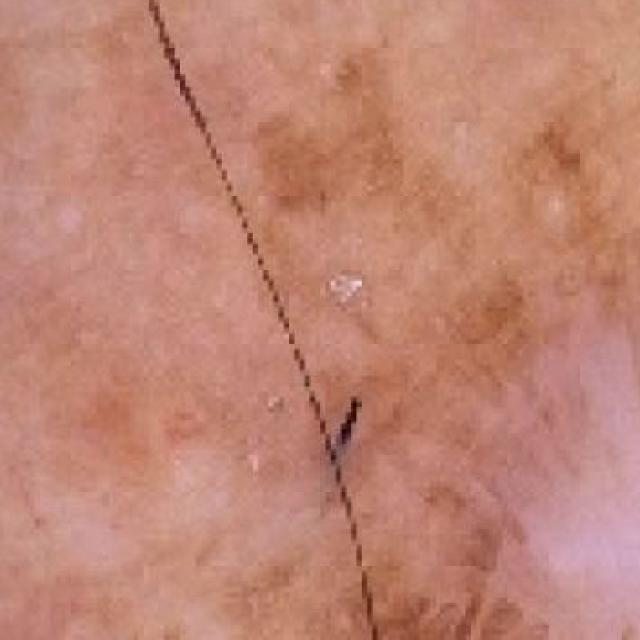DF: (229, 116, 640, 640)
